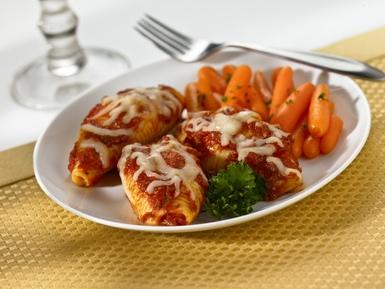carrot: (270, 82, 316, 134), (268, 66, 295, 117), (221, 65, 252, 108), (308, 84, 331, 138), (291, 100, 310, 158), (320, 114, 344, 154), (253, 71, 274, 115), (198, 66, 228, 96), (198, 78, 222, 111), (184, 81, 204, 112), (302, 134, 323, 158), (222, 64, 237, 82)
